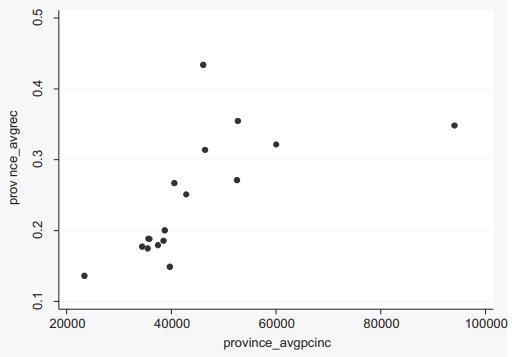axis: (53, 304, 497, 316), (51, 5, 64, 315)
point: (196, 56, 211, 72), (448, 119, 461, 133), (232, 116, 244, 127), (143, 234, 154, 244), (232, 174, 242, 185), (271, 139, 282, 149), (180, 190, 192, 199), (168, 179, 180, 188), (164, 262, 175, 271), (137, 241, 146, 252), (159, 236, 170, 245), (153, 240, 162, 250), (160, 226, 170, 235), (80, 271, 89, 280), (143, 244, 152, 253), (201, 146, 210, 154)
